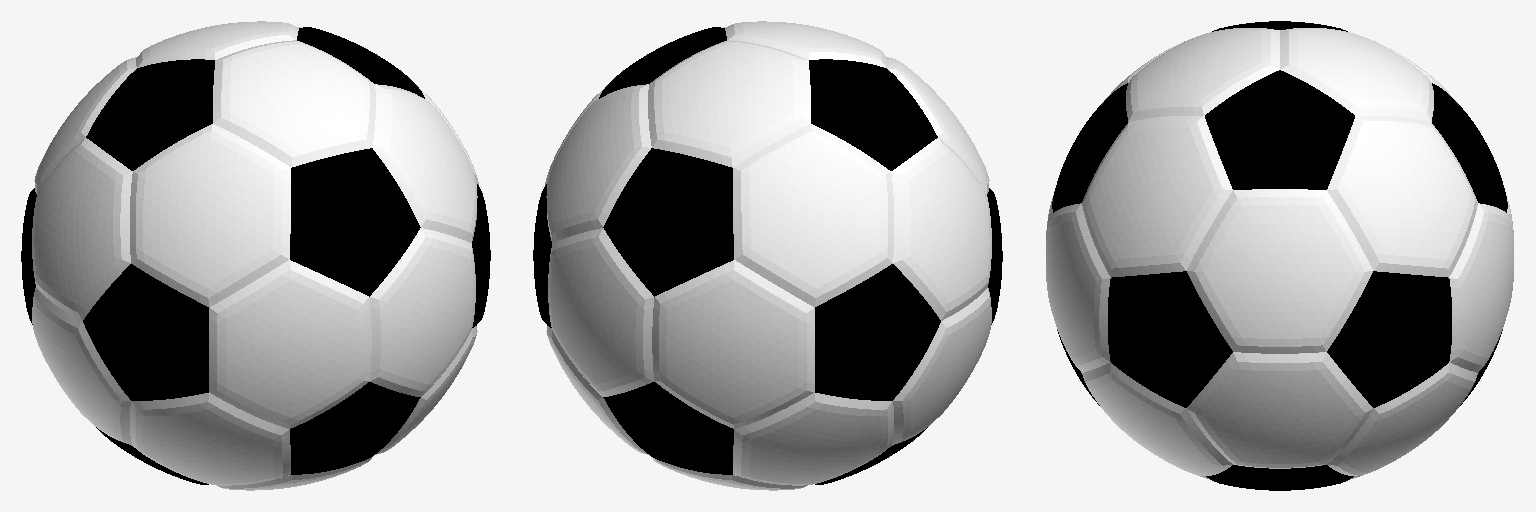
File: fussball001.obj
The picture shows the model from 3 angles: view 1: azimuth 30°, elevation 25°; view 2: azimuth 150°, elevation 25°; view 3: azimuth 270°, elevation 25°; orthographic projection.
Visible parts, largest first — view 1: Solid.001_ID7; view 2: Solid.001_ID7; view 3: Solid.001_ID7.
Boxes of the visible parts, x1,y1,x2,y2 form: Solid.001_ID7: [21, 21, 490, 490]; Solid.001_ID7: [533, 21, 1002, 490]; Solid.001_ID7: [1046, 21, 1513, 490].
Bounding box in the file's own units: 0.0192 × 0.0192 × 0.0192.